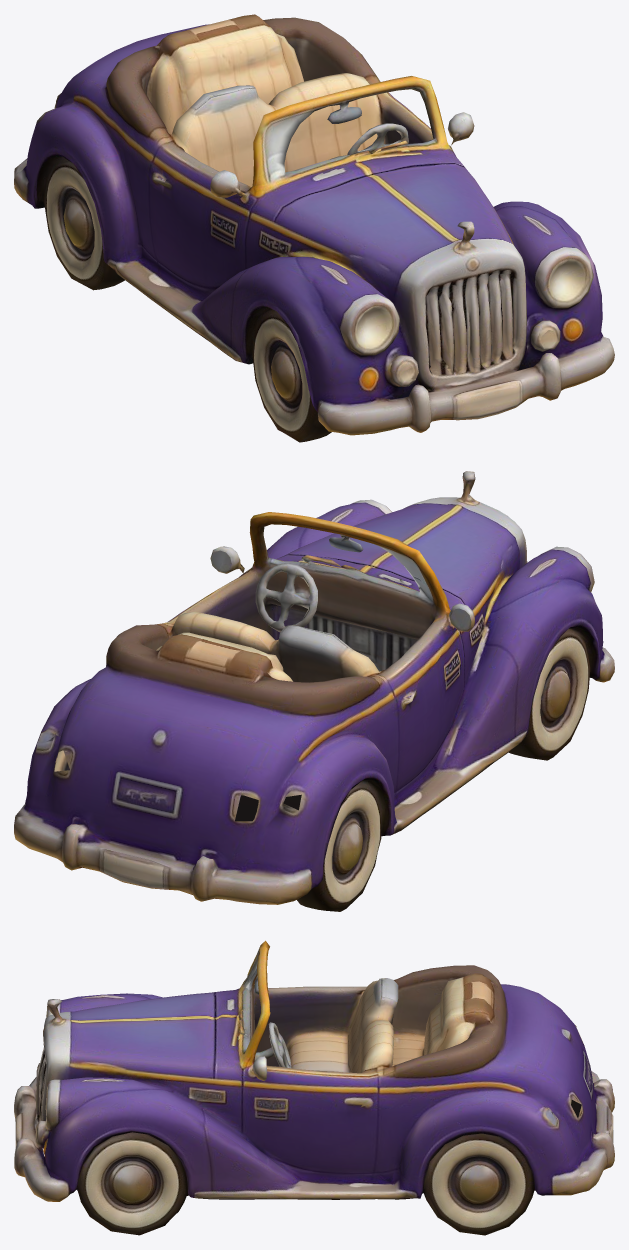
The model's file is 21-car-luxury.glb.
3 views of the same model, one above another, from view 1: azimuth 30°, elevation 25°; view 2: azimuth 150°, elevation 25°; view 3: azimuth 270°, elevation 25° (orthographic). The views are drawn at different scales.
Visible parts, largest first — view 1: tripo_node_52be9026-bd0b-4010-acb6-55b9e8ef8a2f; view 2: tripo_node_52be9026-bd0b-4010-acb6-55b9e8ef8a2f; view 3: tripo_node_52be9026-bd0b-4010-acb6-55b9e8ef8a2f.
Part boxes in pixels (x1,y1,x2,y2): tripo_node_52be9026-bd0b-4010-acb6-55b9e8ef8a2f: (14, 14, 614, 442); tripo_node_52be9026-bd0b-4010-acb6-55b9e8ef8a2f: (14, 471, 614, 911); tripo_node_52be9026-bd0b-4010-acb6-55b9e8ef8a2f: (14, 940, 614, 1235).
Bounding box in the file's own units: 0.4607 × 0.3852 × 0.9794.
1 material, 1 textured.
